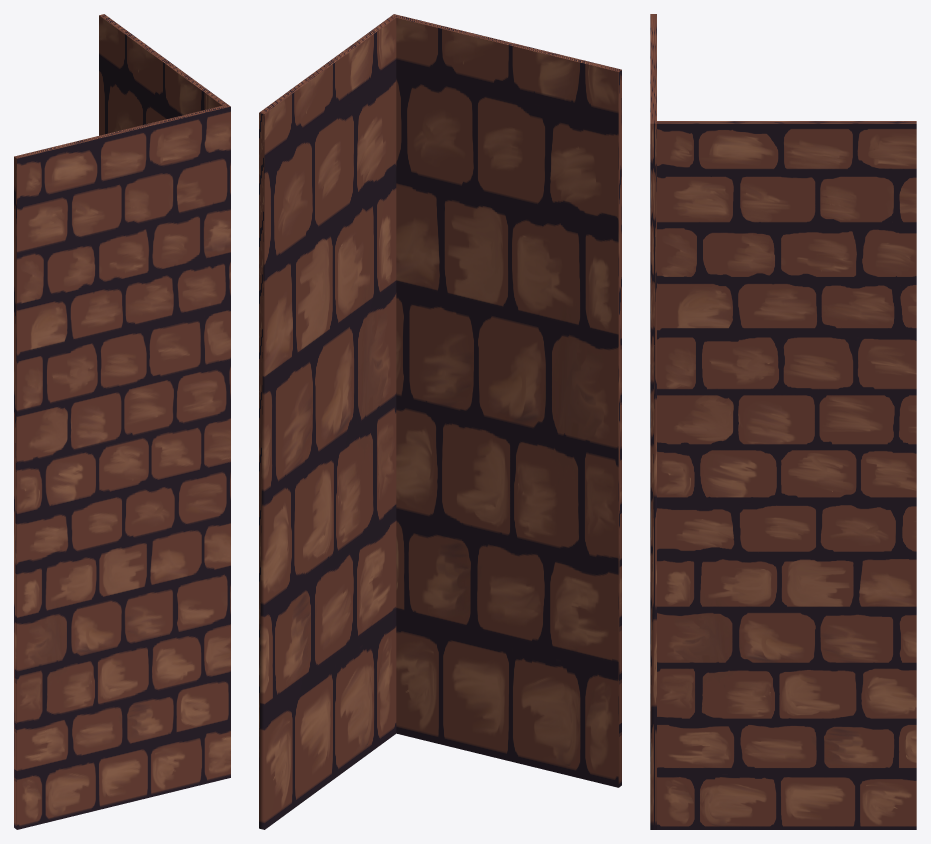
File: Brick_Corner_out.fbx
The picture shows the model from 3 angles, left to right: view 1: azimuth 30°, elevation 25°; view 2: azimuth 150°, elevation 25°; view 3: azimuth 270°, elevation 25°; orthographic projection. The views are drawn at different scales.
Visible parts, largest first — view 1: polySurface5; view 2: polySurface5; view 3: polySurface5.
Part boxes in pixels (x1,y1,x2,y2): polySurface5: [14, 14, 230, 829]; polySurface5: [259, 14, 621, 829]; polySurface5: [650, 14, 916, 829].
Bounding box in the file's own units: 100 × 300 × 102.
Materials: 1 (1 with a texture image).
